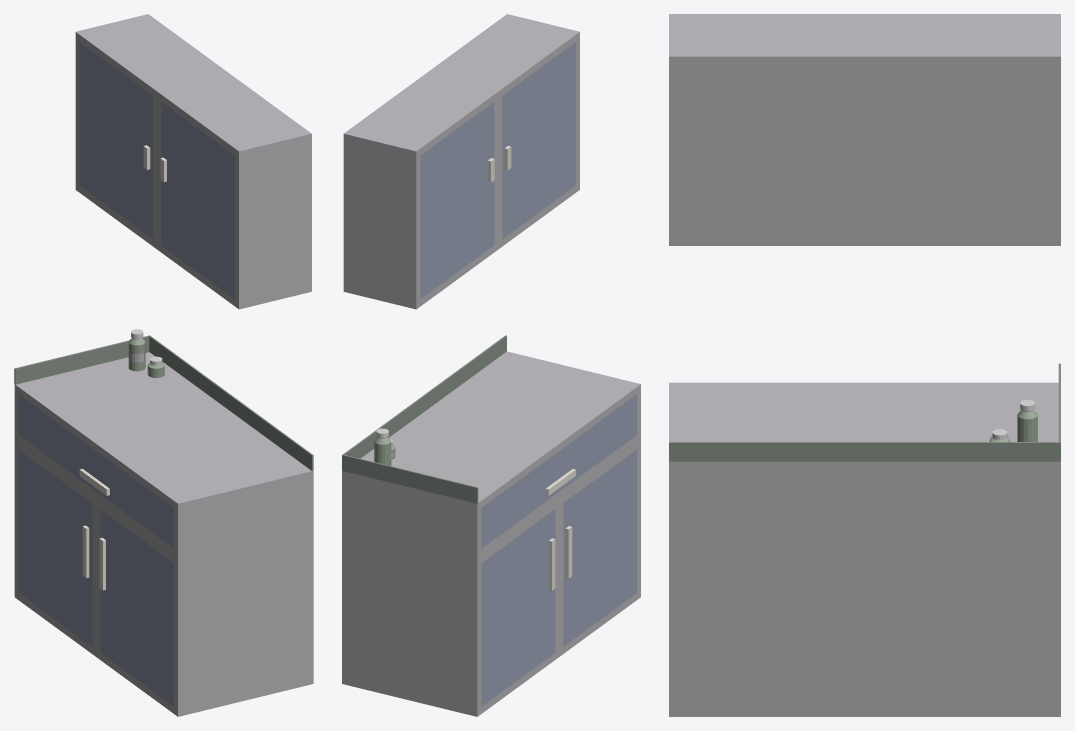
File: DoctorCupboards.fbx
3 views of the same model, side by side, from view 1: azimuth 30°, elevation 25°; view 2: azimuth 150°, elevation 25°; view 3: azimuth 270°, elevation 25° (orthographic). The views are drawn at different scales.
Parts seen in each view (by area): view 1: Cube, Cylinder; view 2: Cube, Cylinder; view 3: Cube, Cylinder.
Part boxes in pixels (x1,y1,x2,y2): Cube: (14, 14, 313, 716); Cylinder: (128, 329, 164, 377); Cube: (342, 14, 640, 716); Cylinder: (374, 428, 395, 465); Cube: (669, 14, 1060, 716); Cylinder: (989, 399, 1037, 441).
Size of the model in its own units: 60.38 by 229 by 123.
